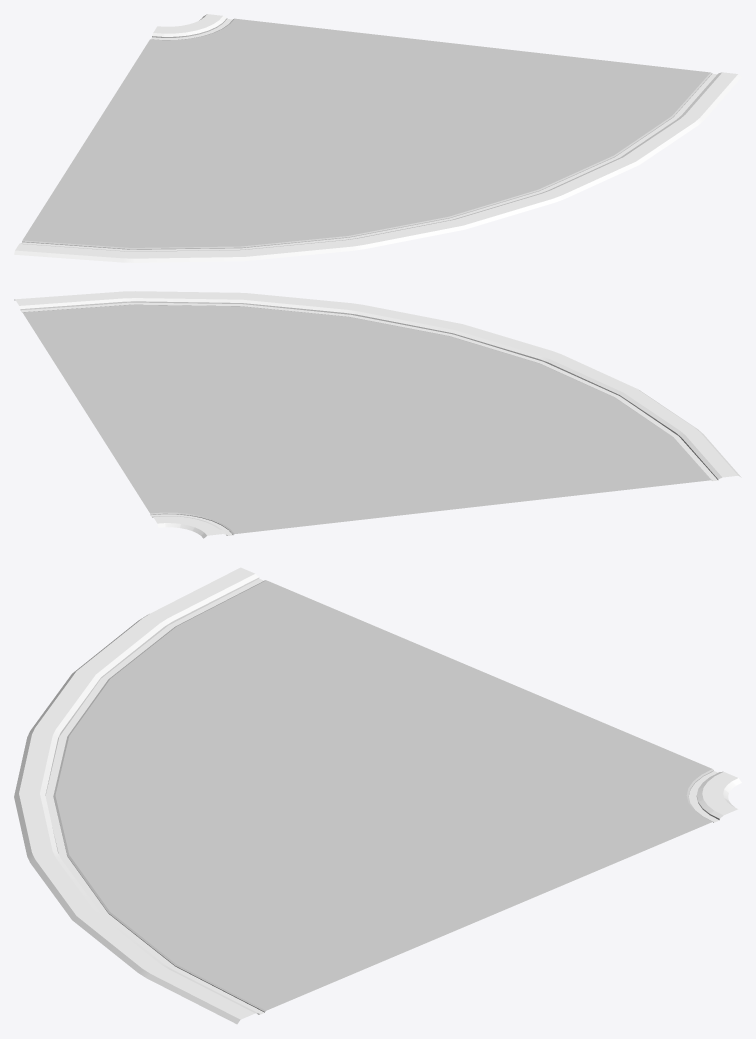
Rendered from Right_angle _road.fbx.
The picture shows the model from 3 angles, top to bottom: view 1: azimuth 30°, elevation 25°; view 2: azimuth 150°, elevation 25°; view 3: azimuth 270°, elevation 25°; orthographic projection. The views are drawn at different scales.
Visible parts, largest first — view 1: right_anngle_road; view 2: right_anngle_road; view 3: right_anngle_road.
Part boxes in pixels (bbox=[...]): right_anngle_road: bbox=[14, 14, 741, 262]; right_anngle_road: bbox=[14, 291, 741, 538]; right_anngle_road: bbox=[14, 567, 741, 1024].
Bounding box in the file's own units: 10.13 × 0.0346 × 6.85.
